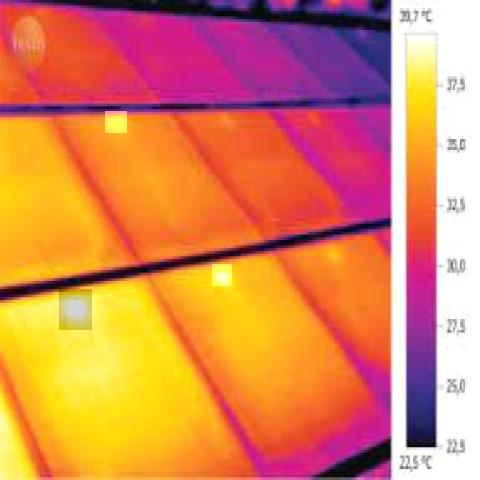fault: (59, 289, 92, 330), (105, 111, 127, 133), (213, 264, 232, 286)
